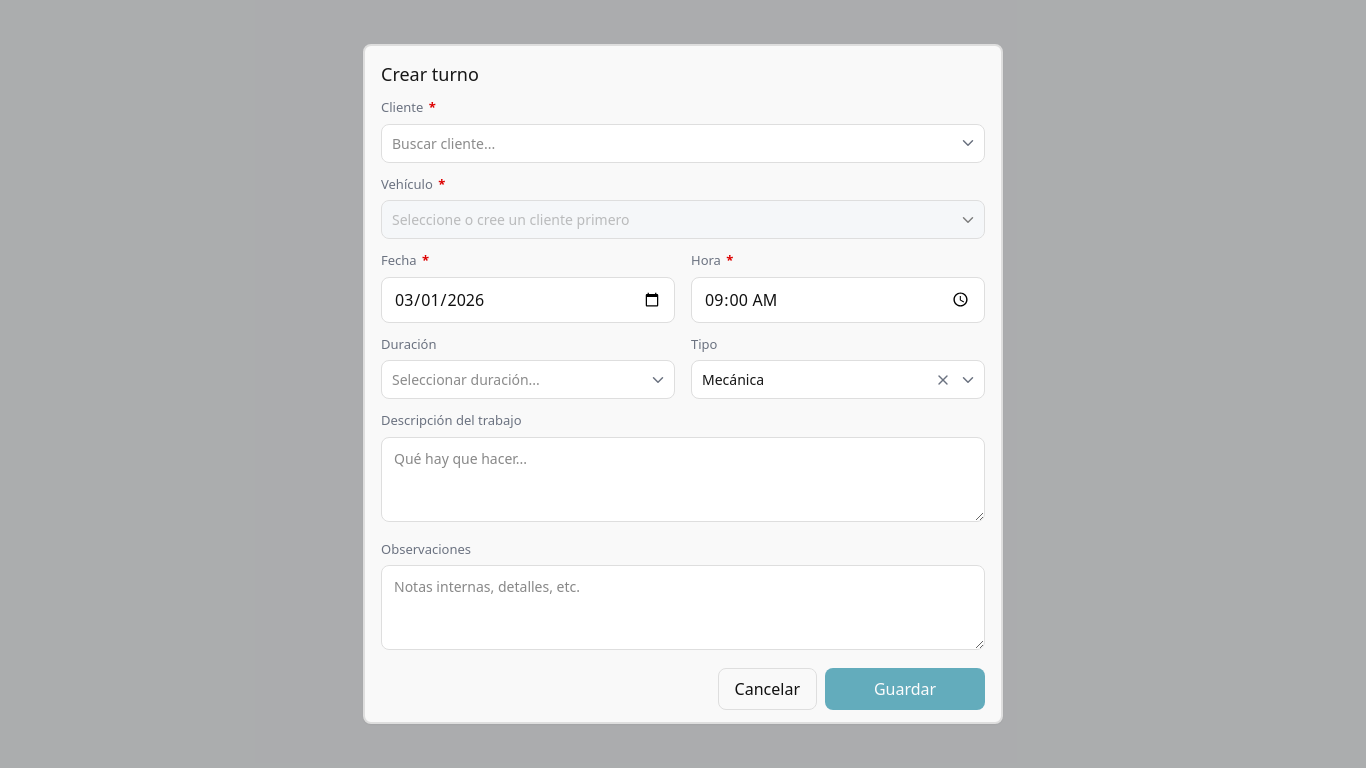
Test: TurnoCreateModal › auto-selecciona el vehículo cuando el cliente tiene uno solo
expect the button with test id "modal-submit" is disabled: met, box [825,668,985,710]
Click the field with placeholder "Buscar cliente..." at (683, 143), box [381,124,985,162]
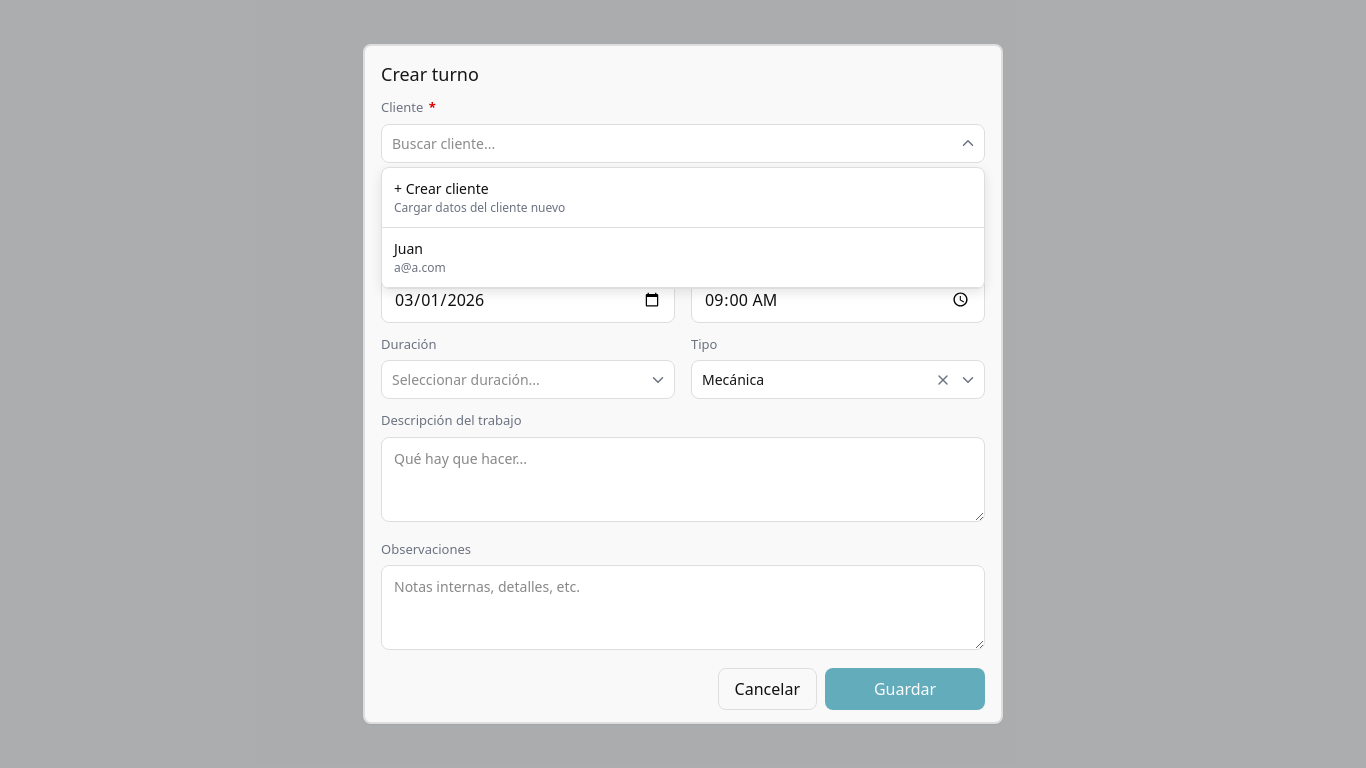
Click the text "Juan" at (408, 248), box [394,238,423,258]
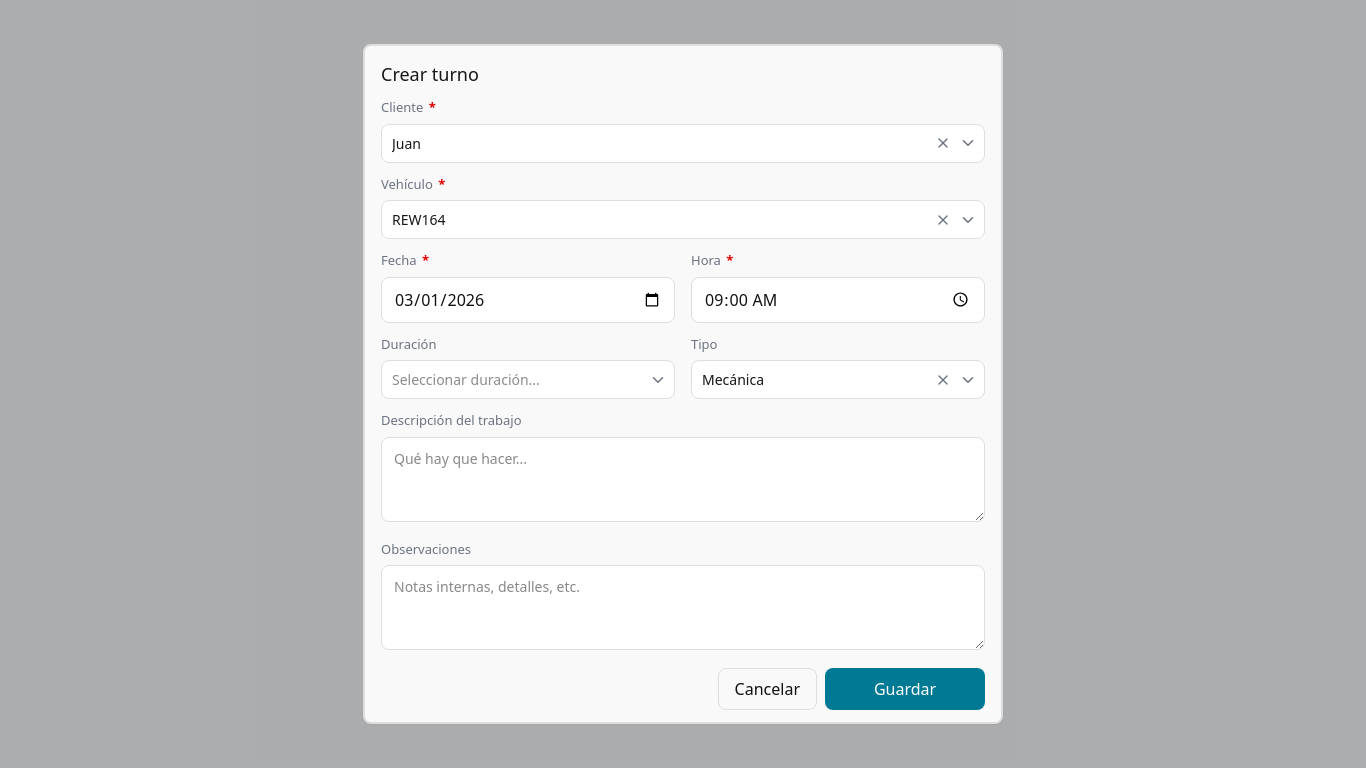
expect the button with test id "modal-submit" is enabled: met, box [825,668,985,710]
expect the field with placeholder "Buscar o crear vehículo..." below "Vehículo" holds "REW164": met, box [381,200,985,239]
